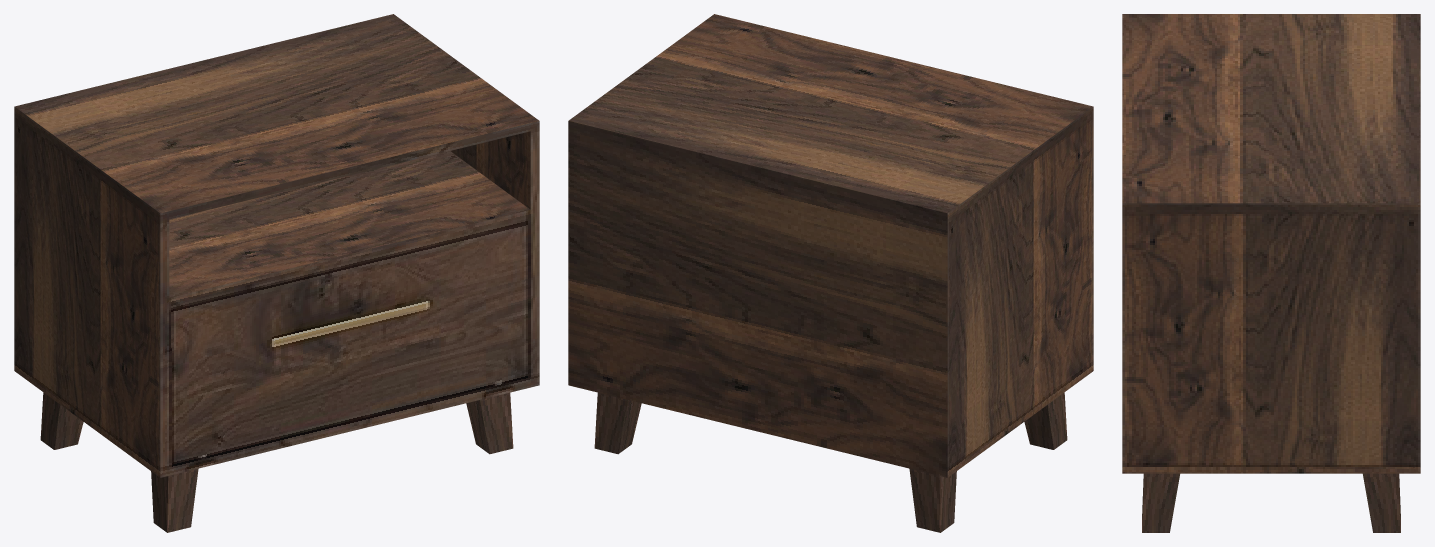
Rendered from psx-nightstand-1cd09c.glb.
3 views of the same model, side by side, from view 1: azimuth 30°, elevation 25°; view 2: azimuth 150°, elevation 25°; view 3: azimuth 270°, elevation 25° (orthographic). The views are drawn at different scales.
Parts seen in each view (by area): view 1: PropMesh; view 2: PropMesh; view 3: PropMesh.
Part boxes in pixels (<box>): PropMesh: <box>14,14,539,532</box>; PropMesh: <box>568,14,1093,532</box>; PropMesh: <box>1122,14,1420,532</box>.
Bounding box in the file's own units: 0.81 × 0.675 × 0.54.
Materials: 1 (1 with a texture image).
